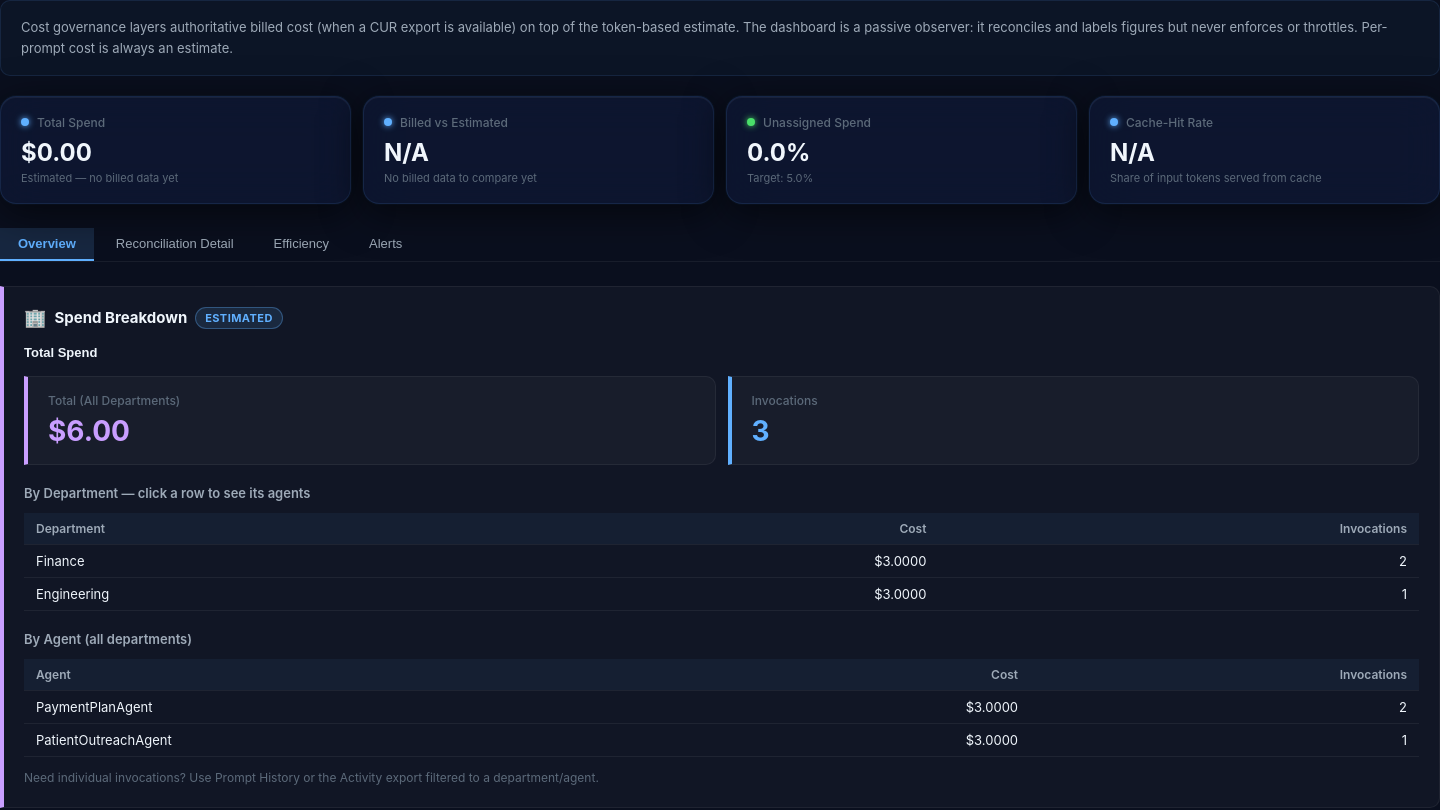
Test: CostGovernanceTab — Overview spend breakdown (breadcrumb drill-down) › clears the drill-down by clicking the "Total Spend" breadcrumb
The image size is (1440, 810).
Click the row with test id "rollup-department-row-Finance": (722, 561) [24,544,1419,578]
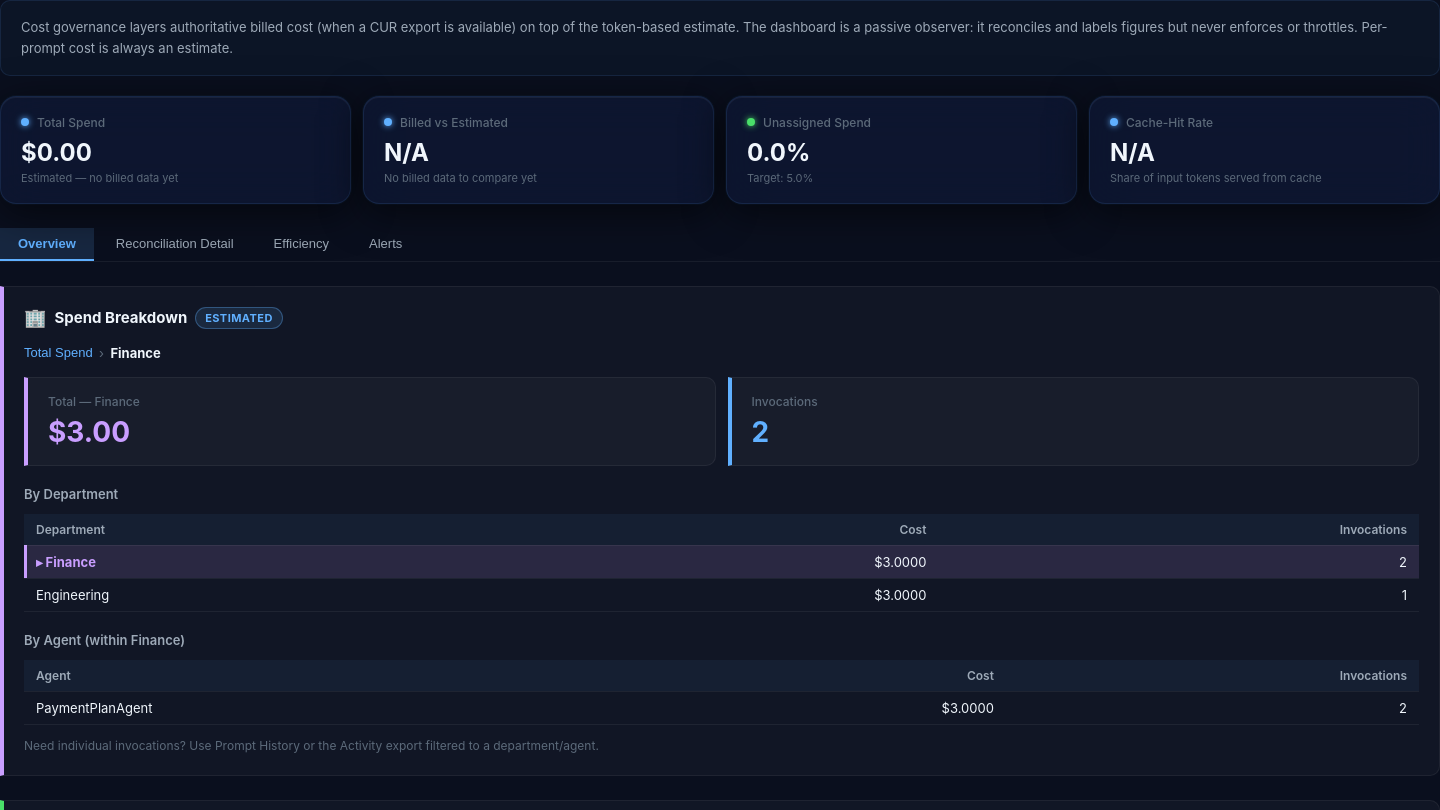
Result: the element with test id "rollup-breadcrumb" shows "Finance" at [110,345,161,361]
Click the button with test id "rollup-breadcrumb-total": (58, 353) [24,346,93,360]
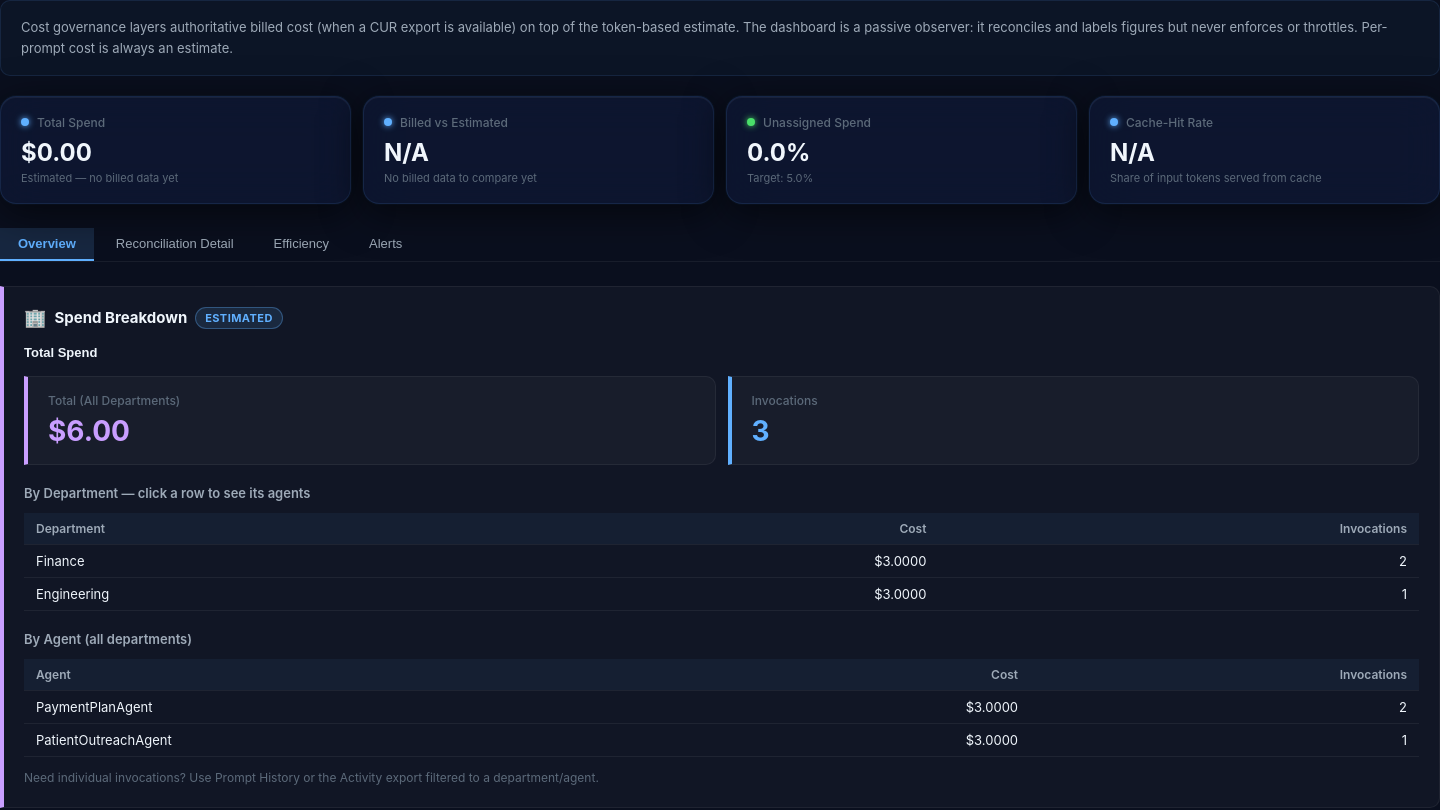
Result: the row with test id "rollup-agent-row-PatientOutreachAgent" is shown at [24,724,1419,756]
